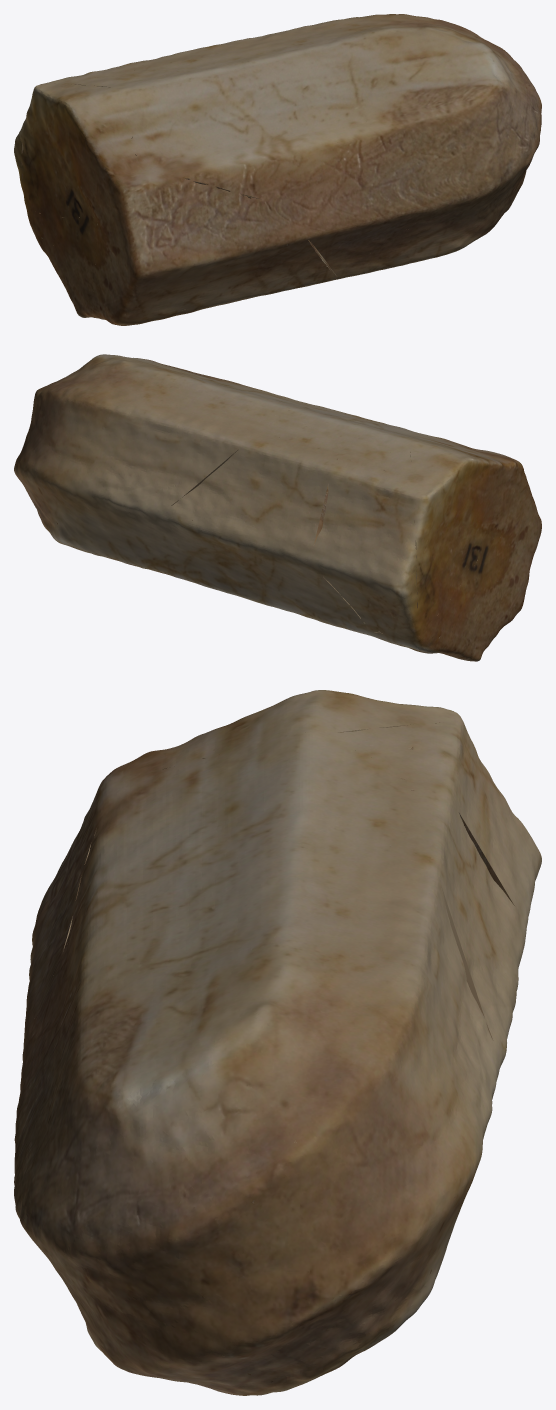
File: fracture.fbx
The picture shows the model from 3 angles, top to bottom: view 1: azimuth 30°, elevation 25°; view 2: azimuth 150°, elevation 25°; view 3: azimuth 270°, elevation 25°; orthographic projection. The views are drawn at different scales.
Visible parts, largest first — view 1: pawn131, pawn131_cell.003, pawn131_cell.005, pawn131_cell.006, pawn131_cell.004, pawn131_cell, pawn131_cell.002, pawn131_cell.001; view 2: pawn131, pawn131_cell.006, pawn131_cell.003, pawn131_cell.002, pawn131_cell.005, pawn131_cell, pawn131_cell.004, pawn131_cell.001; view 3: pawn131, pawn131_cell.003, pawn131_cell.006, pawn131_cell.002, pawn131_cell.004.
Boxes of the visible parts, bbox=[...] form: pawn131: bbox=[14, 14, 541, 325]; pawn131_cell.003: bbox=[213, 14, 541, 278]; pawn131_cell.005: bbox=[92, 173, 336, 325]; pawn131_cell.006: bbox=[121, 46, 262, 199]; pawn131_cell.004: bbox=[21, 83, 139, 217]; pawn131_cell: bbox=[53, 216, 97, 317]; pawn131_cell.002: bbox=[14, 64, 128, 194]; pawn131_cell.001: bbox=[26, 208, 54, 267]; pawn131: bbox=[14, 354, 541, 661]; pawn131_cell.006: bbox=[147, 418, 494, 633]; pawn131_cell.003: bbox=[14, 355, 401, 573]; pawn131_cell.002: bbox=[313, 446, 417, 635]; pawn131_cell.005: bbox=[495, 454, 541, 636]; pawn131_cell: bbox=[449, 533, 500, 660]; pawn131_cell.004: bbox=[411, 442, 520, 631]; pawn131_cell.001: bbox=[368, 600, 452, 654]; pawn131: bbox=[15, 690, 541, 1395]; pawn131_cell.003: bbox=[14, 813, 498, 1395]; pawn131_cell.006: bbox=[63, 732, 526, 1079]; pawn131_cell.002: bbox=[323, 721, 541, 926]; pawn131_cell.004: bbox=[123, 690, 456, 777].
Bounding box in the file's own units: 181 × 82.13 × 99.01.
